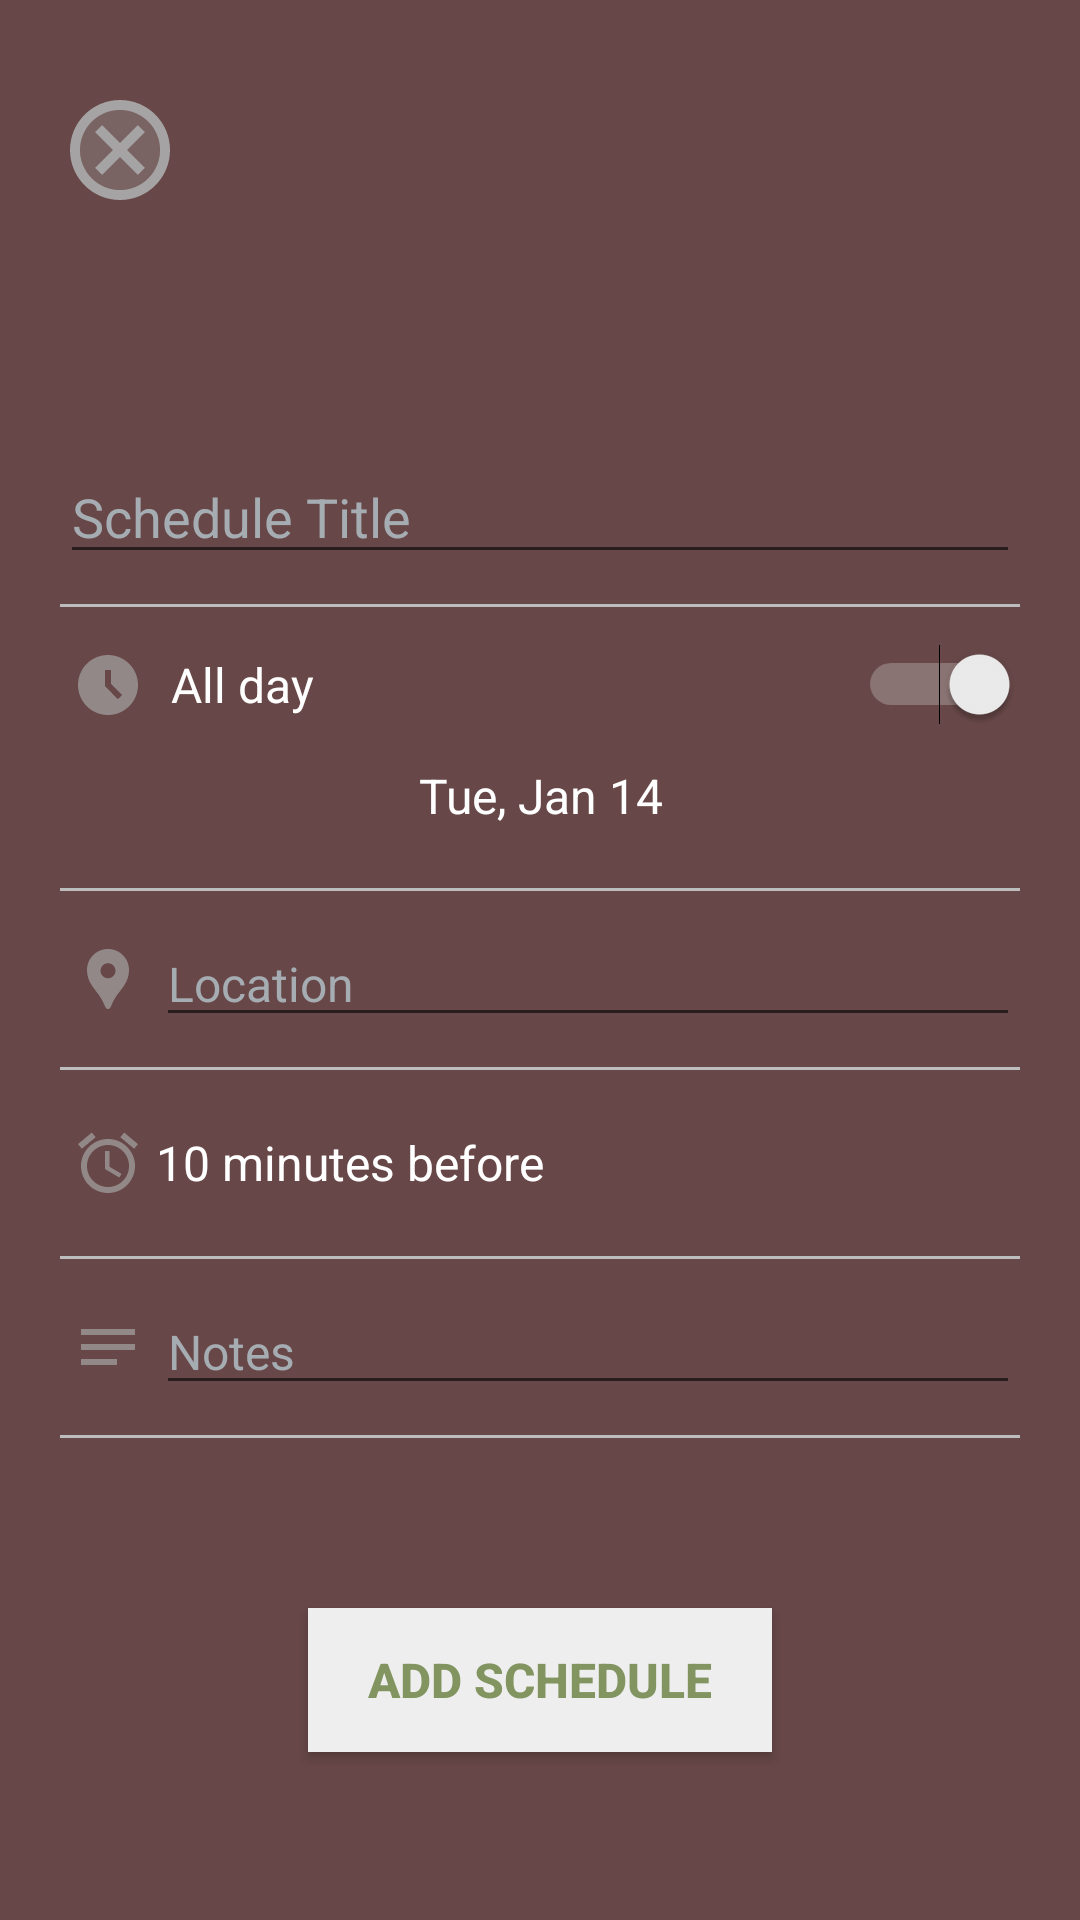

Icons on this 1080 × 1920 Android screen, each with its box as bbox(x1, y1, x2, y2):
Alarm Icon: bbox(78, 1133, 138, 1193)
cancel: bbox(70, 100, 170, 200)
Time Icon: bbox(78, 655, 138, 715)
